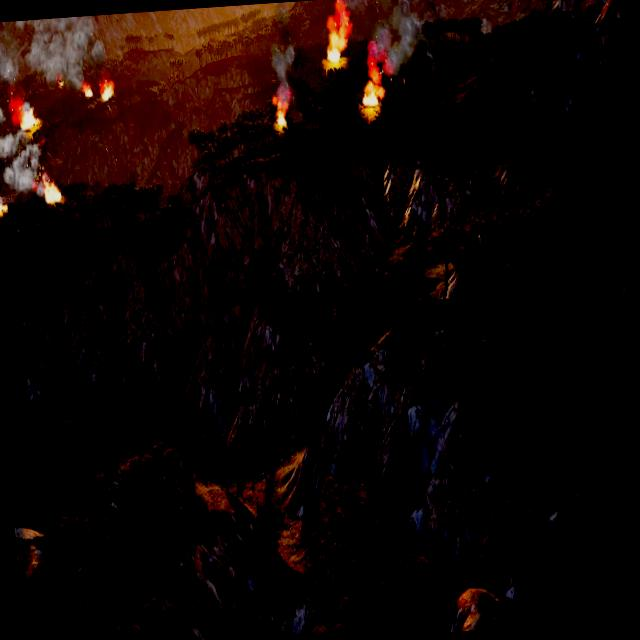fire: (0, 14, 105, 90), (320, 0, 355, 69), (358, 50, 389, 114), (88, 78, 116, 104), (270, 106, 290, 135)
smoke: (0, 26, 38, 194), (370, 0, 427, 74), (268, 37, 296, 106)
